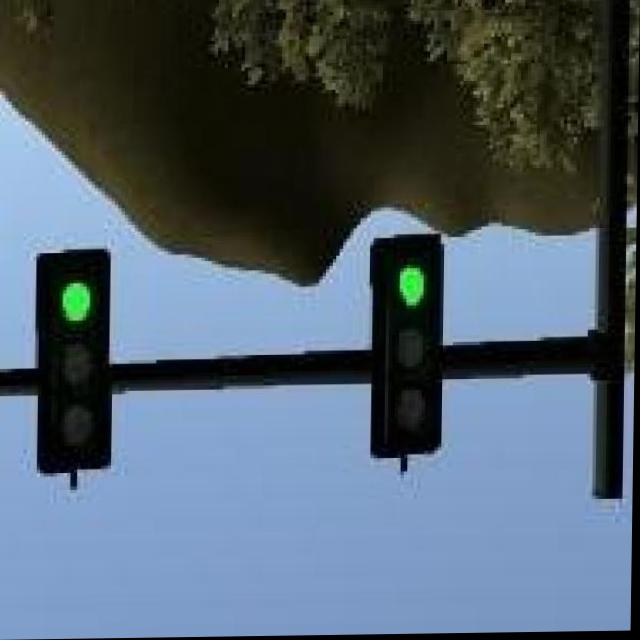green light: (34, 249, 115, 477), (369, 235, 445, 460)
